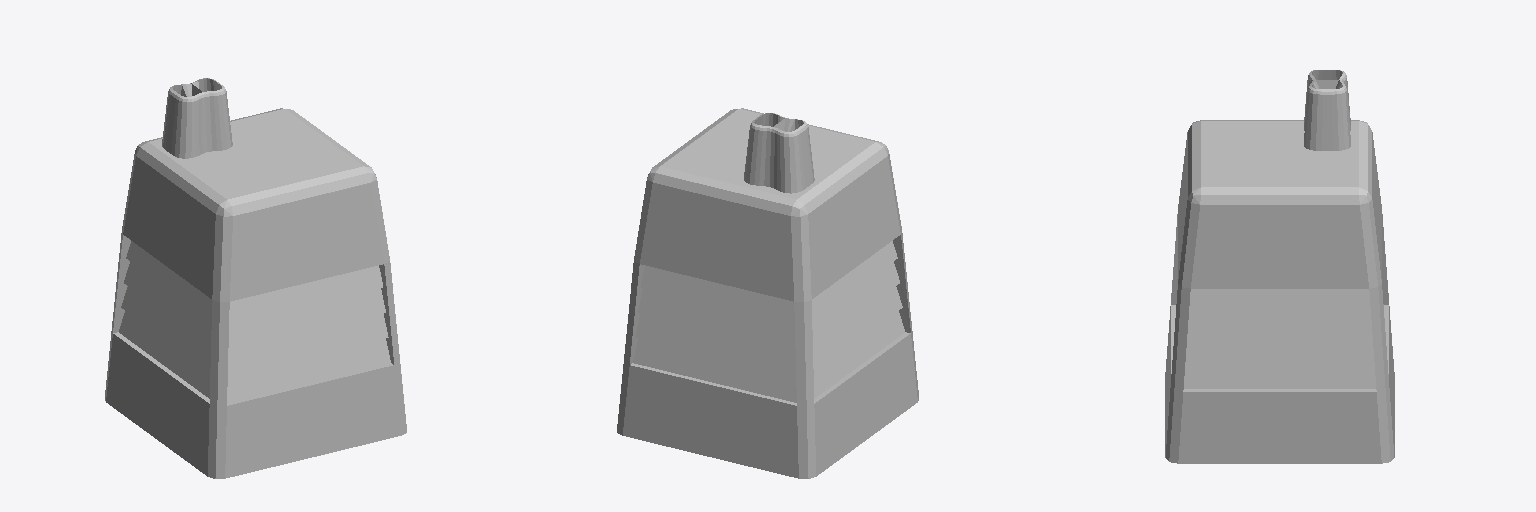
File: Factory_Bomber.obj
The picture shows the model from 3 angles: view 1: azimuth 30°, elevation 25°; view 2: azimuth 150°, elevation 25°; view 3: azimuth 270°, elevation 25°; orthographic projection.
Parts seen in each view (by area): view 1: Cube.001; view 2: Cube.001; view 3: Cube.001.
Part boxes in pixels (x1,y1,x2,y2): Cube.001: (105,78,406,478); Cube.001: (617,108,918,478); Cube.001: (1165,70,1394,463).
Bounding box in the file's own units: 1.8 × 2.76 × 1.8.